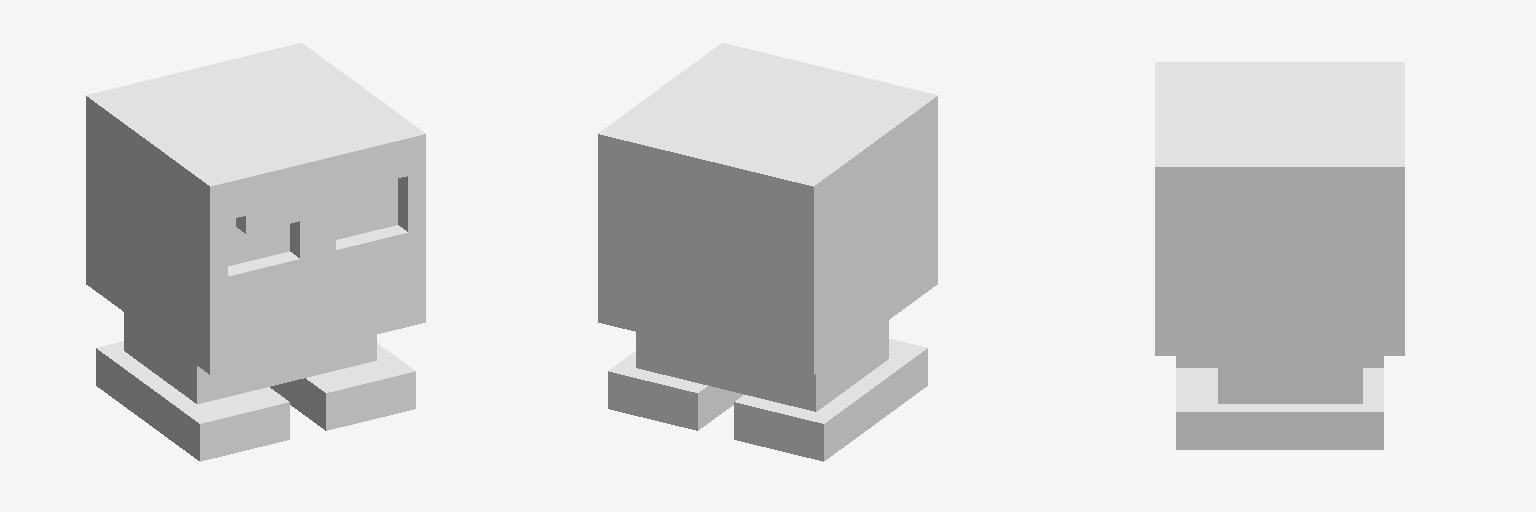
Rendered from enemy1.obj.
3 views of the same model, side by side, from view 1: azimuth 30°, elevation 25°; view 2: azimuth 150°, elevation 25°; view 3: azimuth 270°, elevation 25° (orthographic).
Visible parts, largest first — view 1: enemy1; view 2: enemy1; view 3: enemy1.
Boxes of the visible parts, x1=… form: enemy1: x1=86, y1=43, x2=425, y2=461; enemy1: x1=598, y1=43, x2=937, y2=461; enemy1: x1=1155, y1=62, x2=1404, y2=449.
Size of the model in its own units: 12 by 15 by 12.